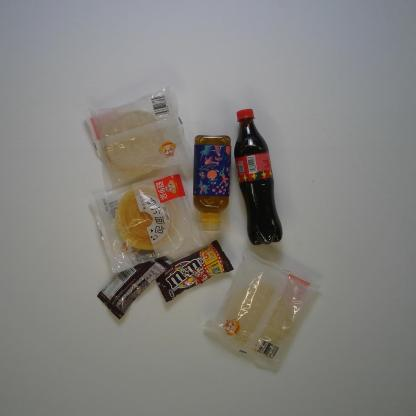Chocolate: (98, 244, 175, 322), (153, 236, 235, 304)
Dessert: (201, 247, 323, 377), (85, 159, 211, 277), (82, 83, 196, 192)
Drink: (232, 105, 284, 246), (191, 130, 233, 237)
